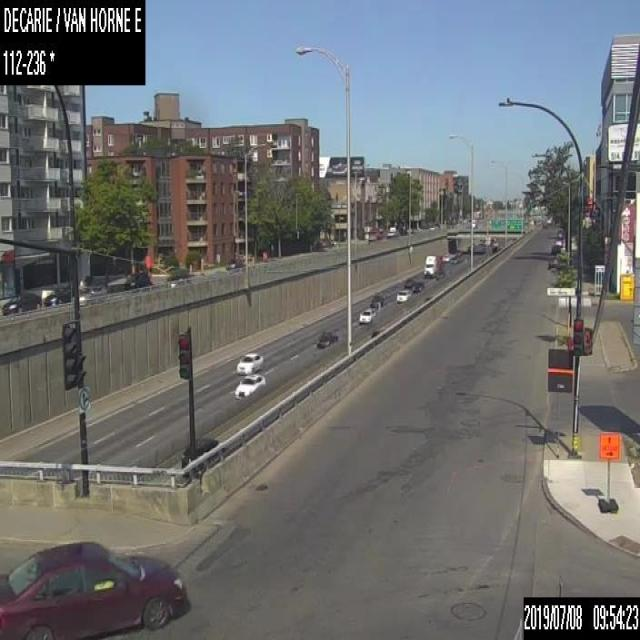construction: (597, 431, 619, 512)
vehicle: (0, 540, 187, 638), (182, 434, 219, 476), (233, 372, 266, 400), (2, 292, 40, 314), (42, 286, 74, 306), (73, 284, 107, 302), (236, 351, 263, 372), (124, 271, 151, 289), (314, 329, 338, 348), (165, 269, 193, 284), (423, 254, 442, 276), (358, 306, 377, 326), (227, 255, 244, 270), (370, 291, 384, 307), (395, 290, 412, 302), (551, 239, 562, 252), (412, 281, 424, 292), (404, 276, 414, 288), (442, 252, 451, 260)
